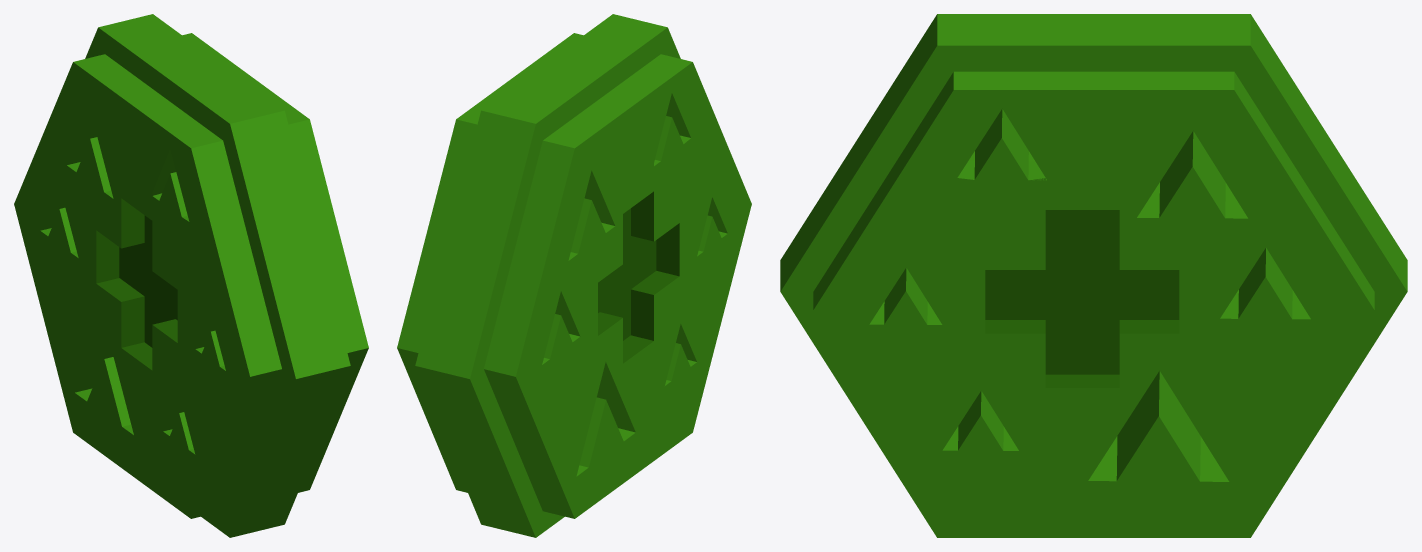
The model's file is Health upgrade.fbx.
The picture shows the model from 3 angles, left to right: view 1: azimuth 30°, elevation 25°; view 2: azimuth 150°, elevation 25°; view 3: azimuth 270°, elevation 25°; orthographic projection. The views are drawn at different scales.
Visible parts, largest first — view 1: HealthUpgrade; view 2: HealthUpgrade; view 3: HealthUpgrade.
Boxes of the visible parts, x1,y1,x2,y2 form: HealthUpgrade: [14, 14, 368, 537]; HealthUpgrade: [397, 14, 751, 537]; HealthUpgrade: [780, 14, 1407, 537].
Size of the model in its own units: 205 by 682 by 787.
